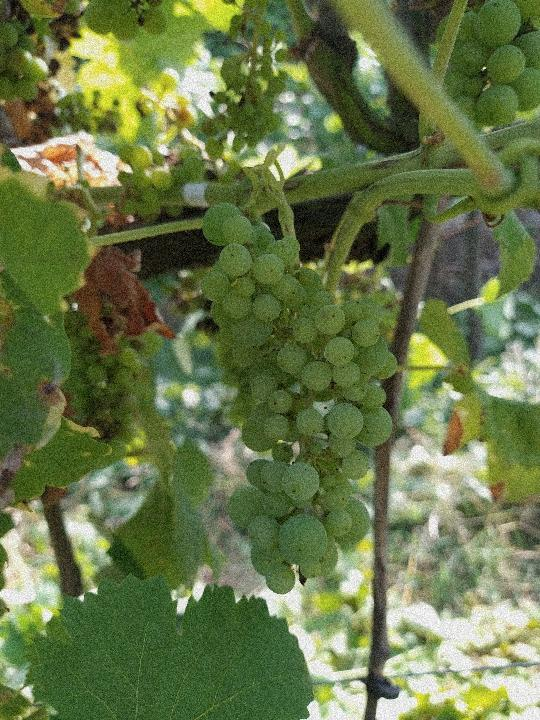grape: (198, 202, 397, 592)
